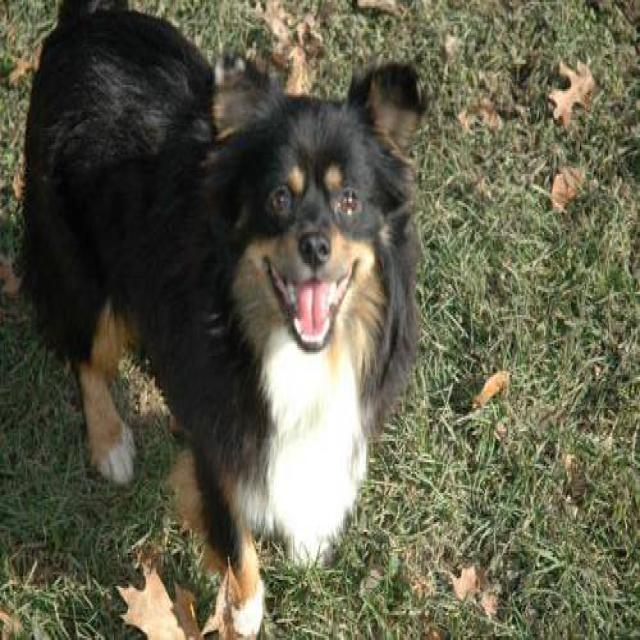dog: (15, 0, 428, 638)
